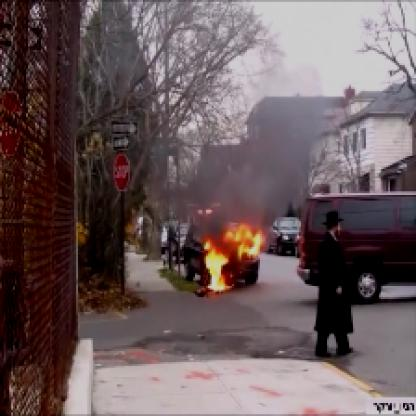Fire: (199, 199, 267, 297)
